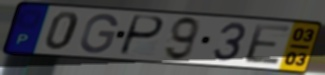0: (42, 10, 80, 52)
3: (212, 21, 248, 63)
9: (164, 16, 202, 63)
E: (243, 22, 294, 67)
G: (78, 13, 120, 55)
P: (116, 14, 166, 58)
